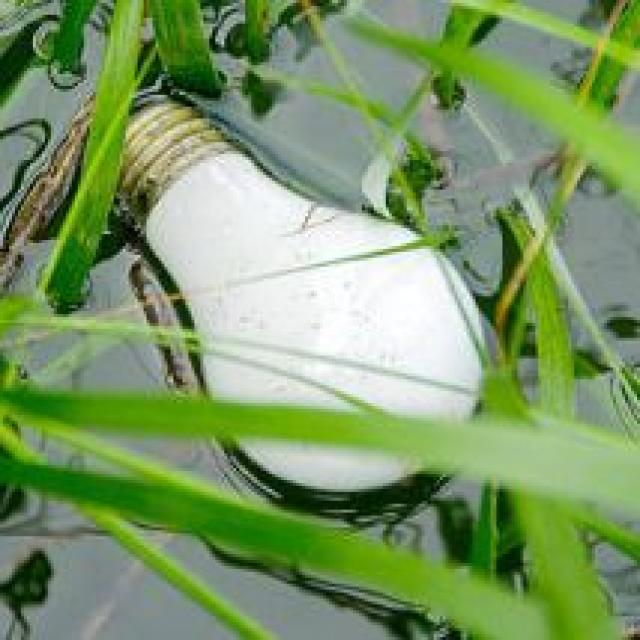electronic: (110, 86, 500, 515)
